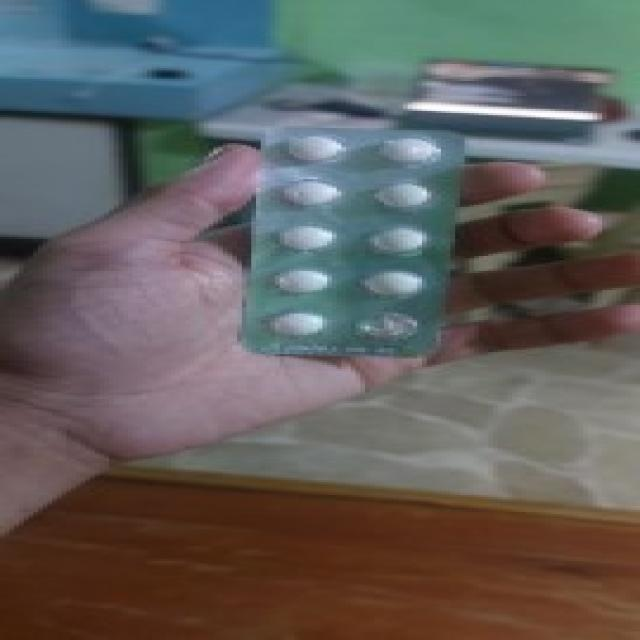Cacat: (234, 125, 446, 360)
Kemasan: (342, 307, 432, 346)
